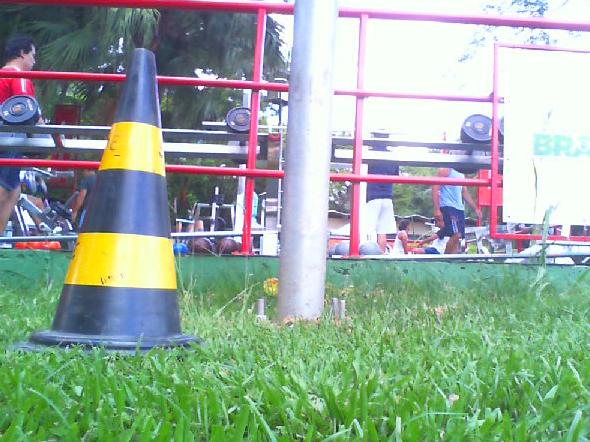0 cone: (28, 48, 202, 355)
